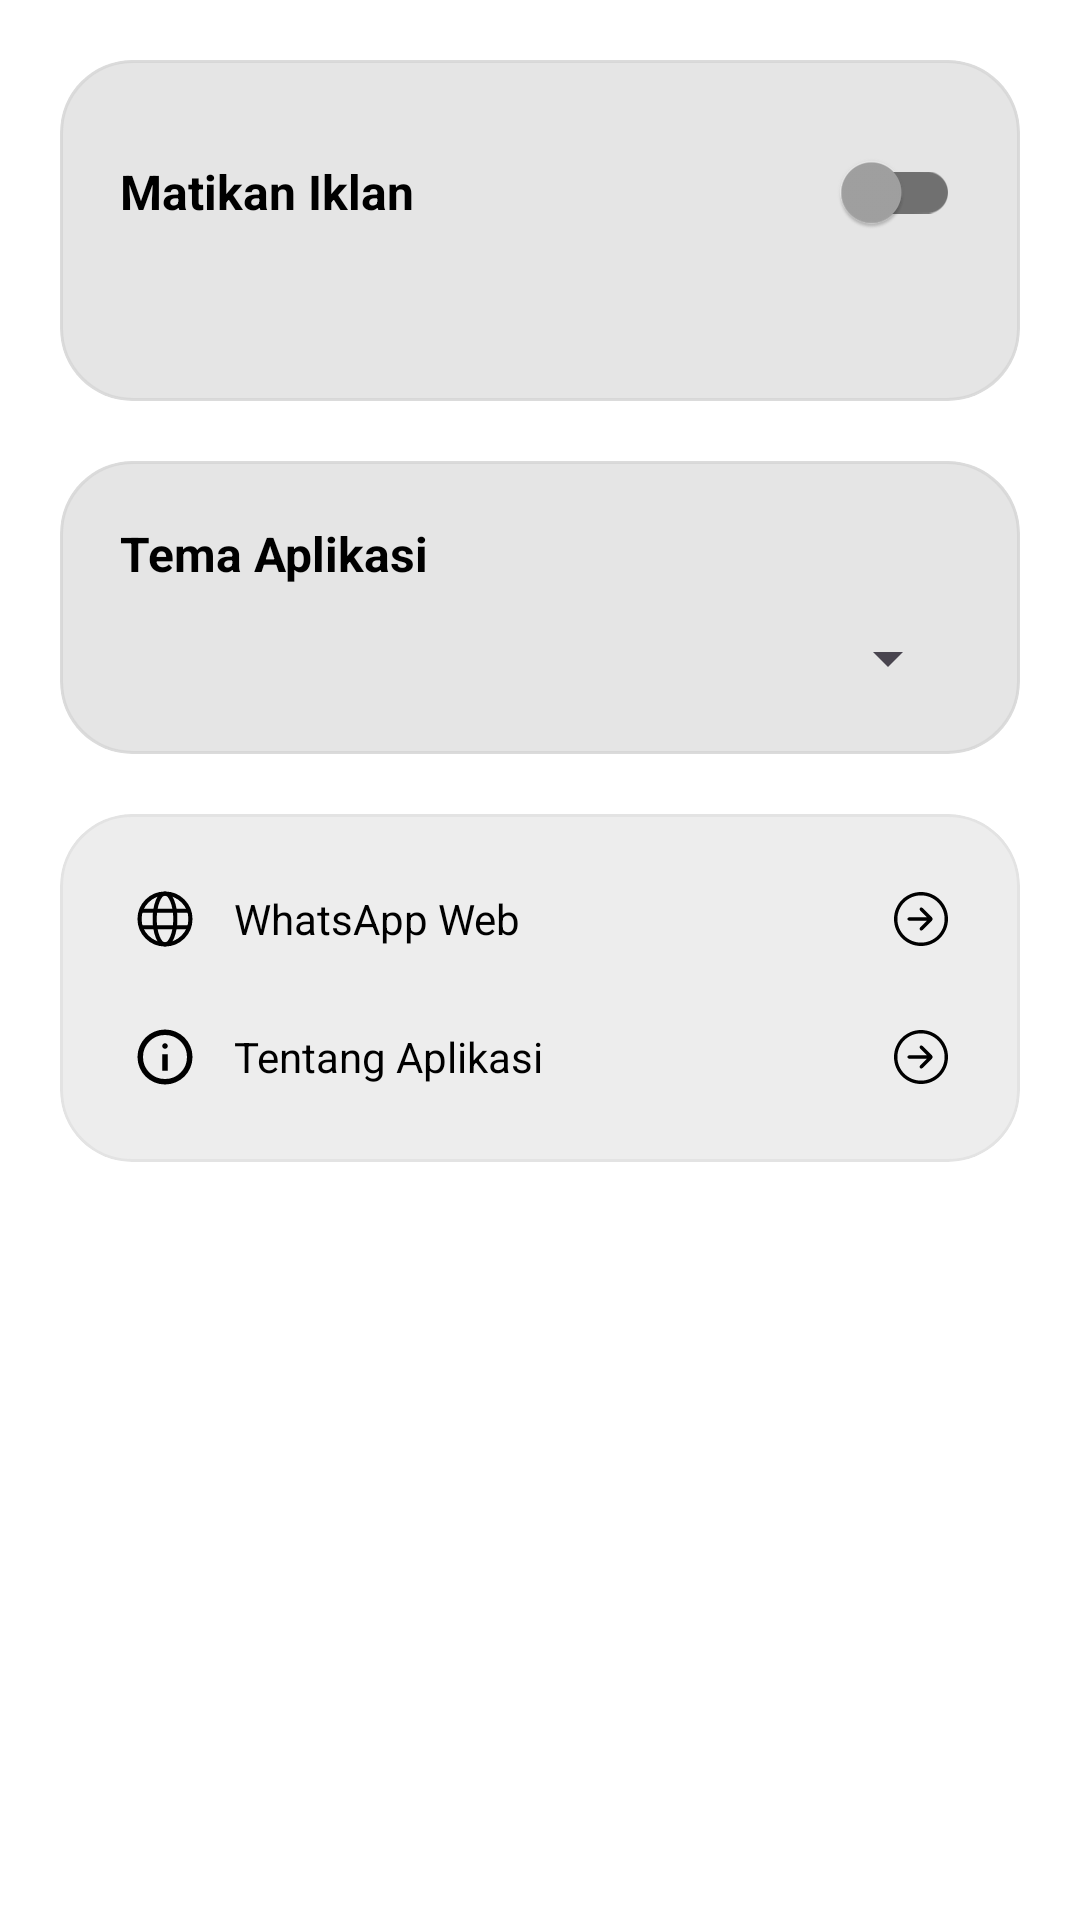

Named icons in this screenshot (1080×1920) and their bounding boxes, (x1=x1, y1=y1, x2=x2, y2=y2):
arrow right: (x1=894, y1=892, x2=948, y2=946), (x1=894, y1=1030, x2=948, y2=1084)
browser: (x1=137, y1=891, x2=193, y2=947)
info: (x1=137, y1=1029, x2=193, y2=1085)
